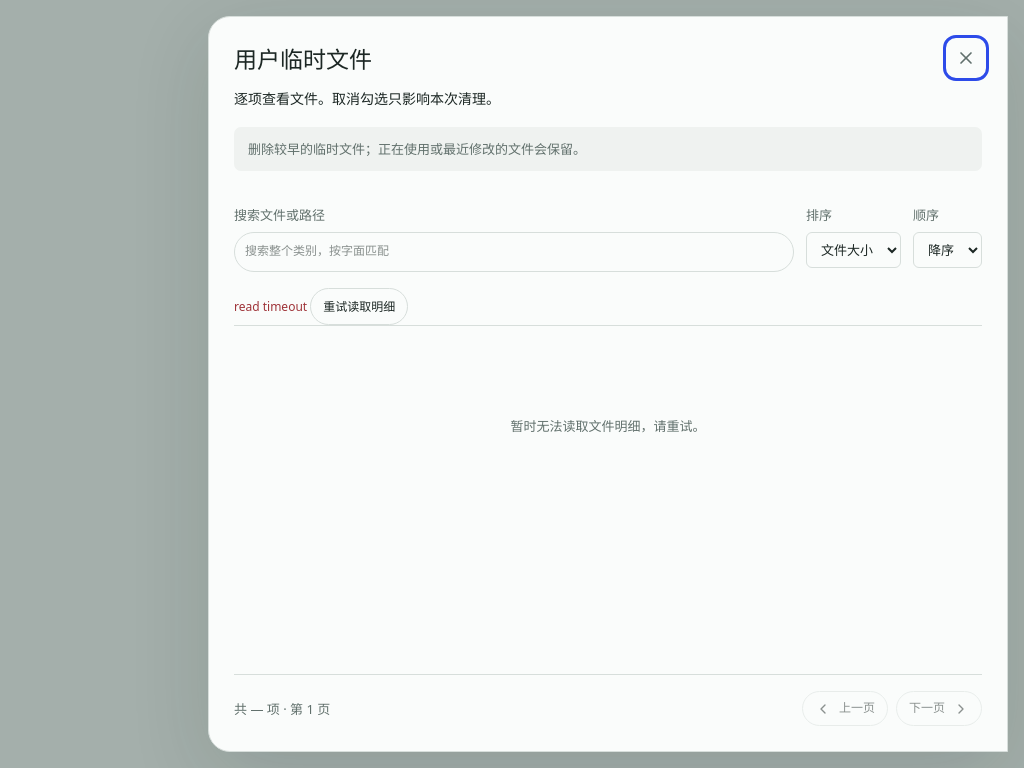
Test: distinguishes a failed read from an empty category and allows retry
Expected: the text "暂时无法读取文件明细，请重试。" is shown, [510, 417, 706, 435]
Expected: the text "该类别没有可清理的文件。" is not shown
Click the button "重试读取明细". click: [359, 306]
box: [310, 288, 408, 325]
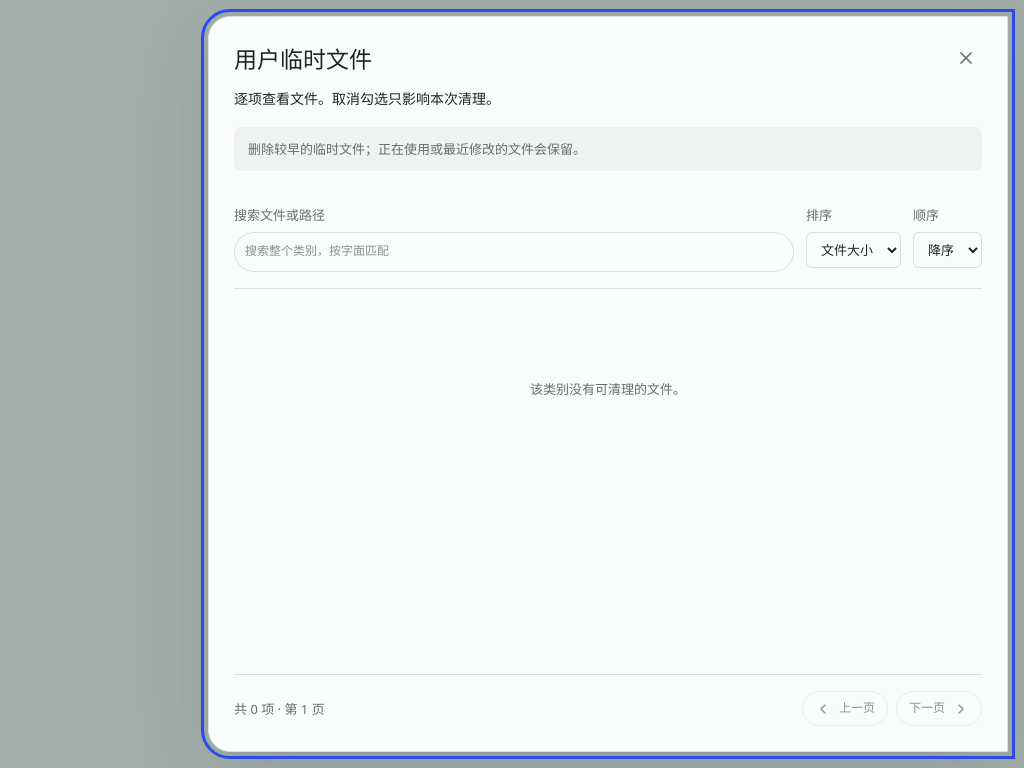
Expected: the text "该类别没有可清理的文件。" is shown, [530, 380, 686, 398]
